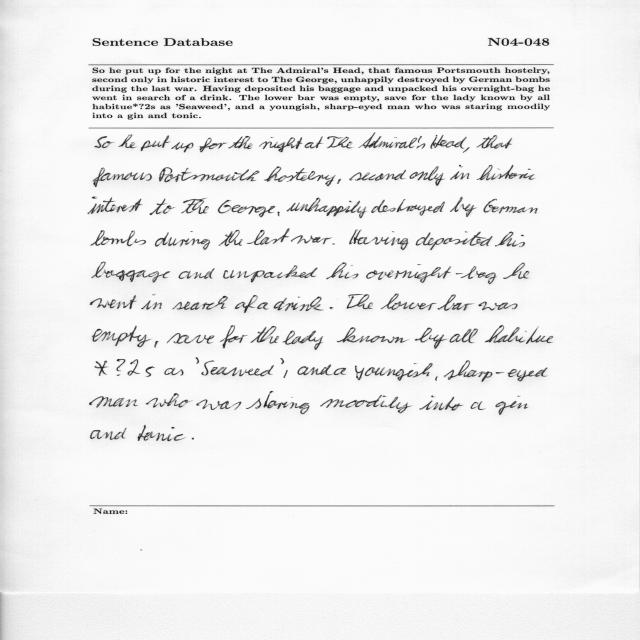word: (366, 264, 497, 284), (444, 360, 548, 382), (320, 395, 412, 413), (92, 262, 170, 283), (223, 266, 318, 283), (287, 198, 367, 218), (327, 133, 425, 149), (159, 167, 259, 182), (246, 392, 310, 415), (416, 231, 493, 250), (264, 167, 336, 186), (485, 325, 553, 344), (349, 229, 409, 250), (371, 199, 445, 216), (92, 326, 151, 347), (365, 363, 433, 381), (201, 361, 274, 377), (337, 327, 408, 343), (93, 168, 152, 187), (95, 359, 155, 377), (155, 231, 210, 250), (218, 200, 275, 217), (88, 197, 143, 214), (381, 294, 437, 310), (91, 230, 146, 246), (477, 165, 535, 180), (283, 330, 324, 350), (172, 296, 228, 310), (137, 425, 186, 441), (484, 199, 538, 213), (410, 166, 445, 186), (274, 297, 324, 311), (415, 328, 448, 349), (247, 229, 290, 245), (146, 393, 190, 408), (419, 396, 463, 411), (90, 295, 137, 309), (259, 137, 302, 152), (220, 326, 248, 349), (349, 170, 406, 181), (496, 396, 529, 415), (438, 294, 474, 311), (89, 396, 138, 408), (326, 263, 358, 280), (298, 365, 347, 376), (167, 333, 215, 344), (450, 197, 476, 217), (430, 135, 467, 149), (477, 135, 513, 149), (197, 399, 242, 410), (251, 326, 279, 343), (141, 135, 170, 151), (495, 232, 525, 247), (181, 198, 209, 214), (91, 428, 127, 440), (150, 199, 175, 216), (503, 263, 529, 279), (235, 295, 258, 313), (449, 329, 478, 343), (179, 268, 215, 279), (347, 294, 373, 309), (219, 230, 243, 246), (200, 138, 227, 152), (291, 236, 332, 245), (479, 302, 518, 311), (141, 294, 162, 310), (229, 136, 253, 149), (450, 165, 469, 180), (119, 135, 136, 149), (172, 143, 194, 153), (305, 136, 323, 148), (164, 368, 184, 376), (95, 136, 107, 148), (471, 401, 486, 410), (355, 366, 364, 380), (102, 141, 114, 148), (257, 303, 269, 310), (463, 147, 470, 153), (284, 370, 288, 378), (155, 341, 159, 347), (281, 358, 285, 364), (337, 179, 341, 184), (196, 358, 199, 364), (435, 376, 438, 381), (278, 212, 280, 217), (330, 307, 334, 309), (332, 243, 335, 245), (192, 438, 194, 440)
